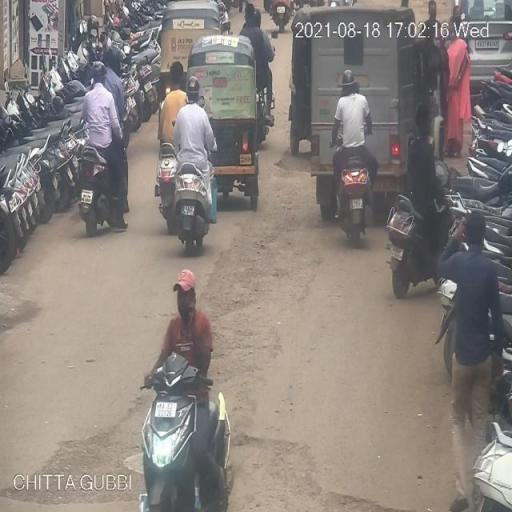using mobile: (188, 290, 198, 337)
